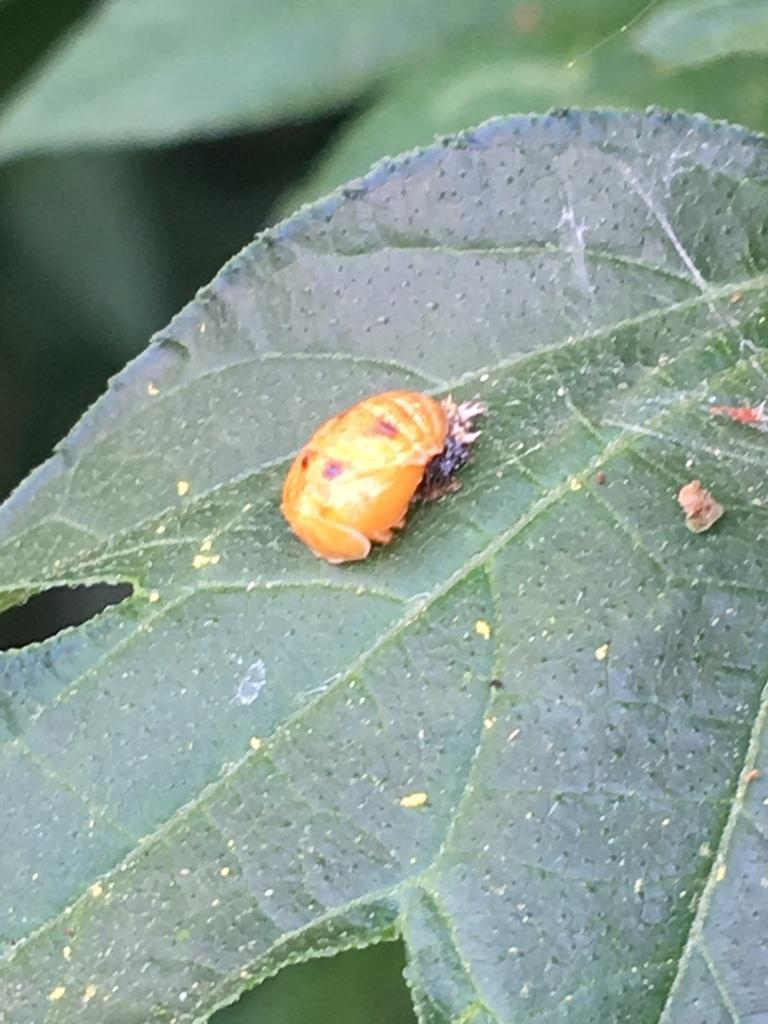ladybug: (281, 389, 496, 569)
